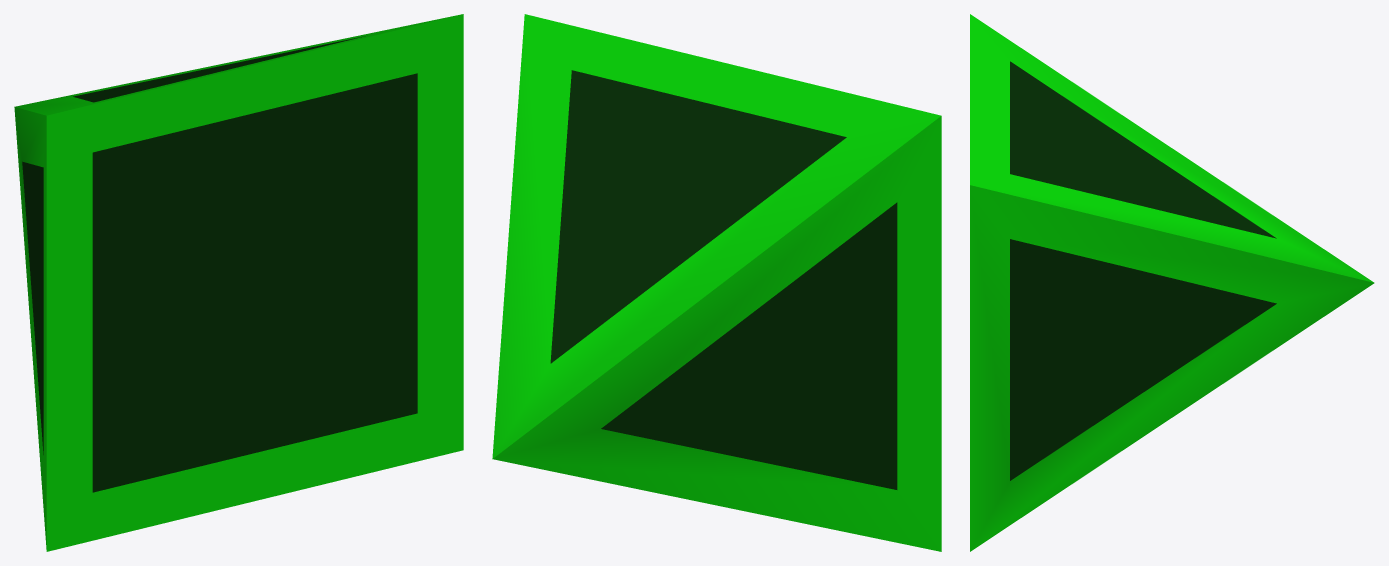
Rendered from test_player.glb.
3 views of the same model, side by side, from view 1: azimuth 30°, elevation 25°; view 2: azimuth 150°, elevation 25°; view 3: azimuth 270°, elevation 25° (orthographic). The views are drawn at different scales.
Parts seen in each view (by area): view 1: test_player; view 2: test_player; view 3: test_player.
Boxes of the visible parts, x1,y1,x2,y2 form: test_player: (14, 14, 463, 551); test_player: (492, 14, 941, 551); test_player: (970, 14, 1374, 551).
Size of the model in its own units: 0.5 by 0.5 by 0.5.
